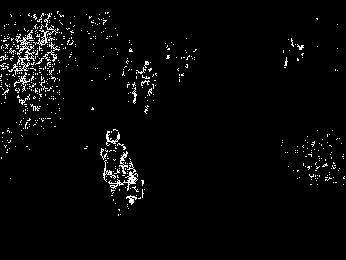person: (101, 127, 143, 206)
